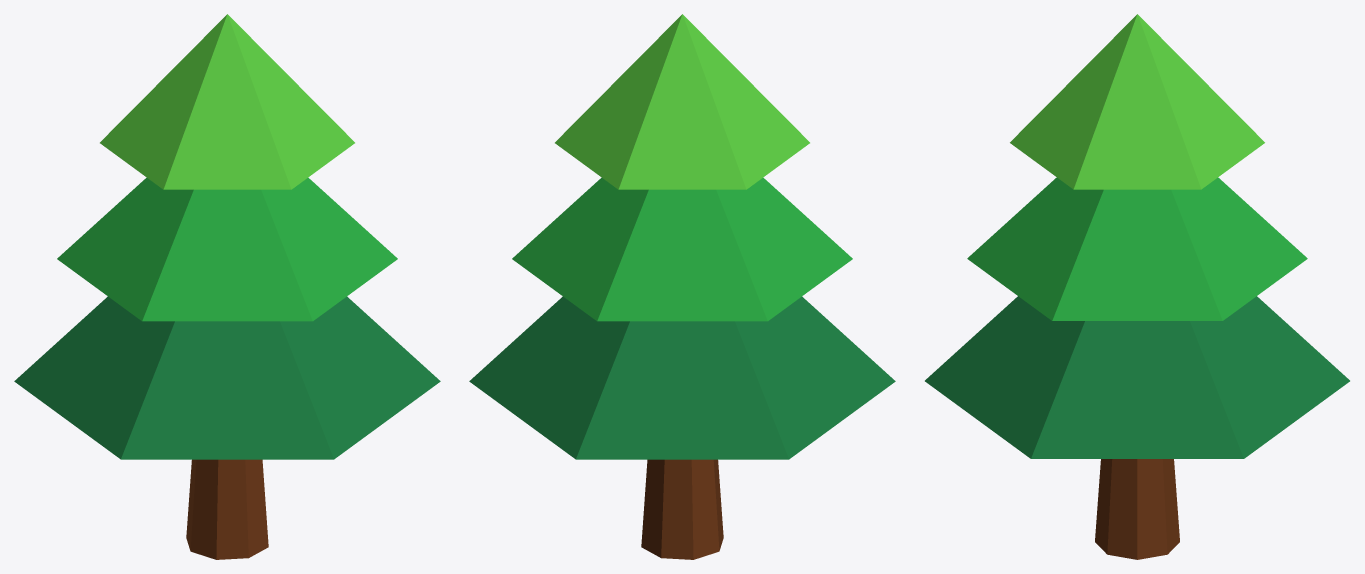
Rendered from pine.glb.
3 renders of one model, left to right at view 1: azimuth 30°, elevation 25°; view 2: azimuth 150°, elevation 25°; view 3: azimuth 270°, elevation 25°, orthographic.
Visible parts, largest first — view 1: Leaves_Bottom, Leaves_Middle, Leaves_Top, Trunk; view 2: Leaves_Bottom, Leaves_Middle, Leaves_Top, Trunk; view 3: Leaves_Bottom, Leaves_Middle, Leaves_Top, Trunk.
Boxes of the visible parts, x1=… form: Leaves_Bottom: x1=14, y1=296, x2=440, y2=459; Leaves_Middle: x1=57, y1=177, x2=397, y2=321; Leaves_Top: x1=100, y1=14, x2=354, y2=189; Trunk: x1=186, y1=459, x2=268, y2=559; Leaves_Bottom: x1=469, y1=296, x2=895, y2=459; Leaves_Middle: x1=512, y1=177, x2=852, y2=321; Leaves_Top: x1=555, y1=14, x2=809, y2=189; Trunk: x1=641, y1=459, x2=723, y2=559; Leaves_Bottom: x1=925, y1=296, x2=1349, y2=458; Leaves_Middle: x1=967, y1=177, x2=1307, y2=320; Leaves_Top: x1=1010, y1=14, x2=1264, y2=189; Trunk: x1=1095, y1=459, x2=1179, y2=559.
Bounding box in the file's own units: 2.6 × 4.1 × 3.
